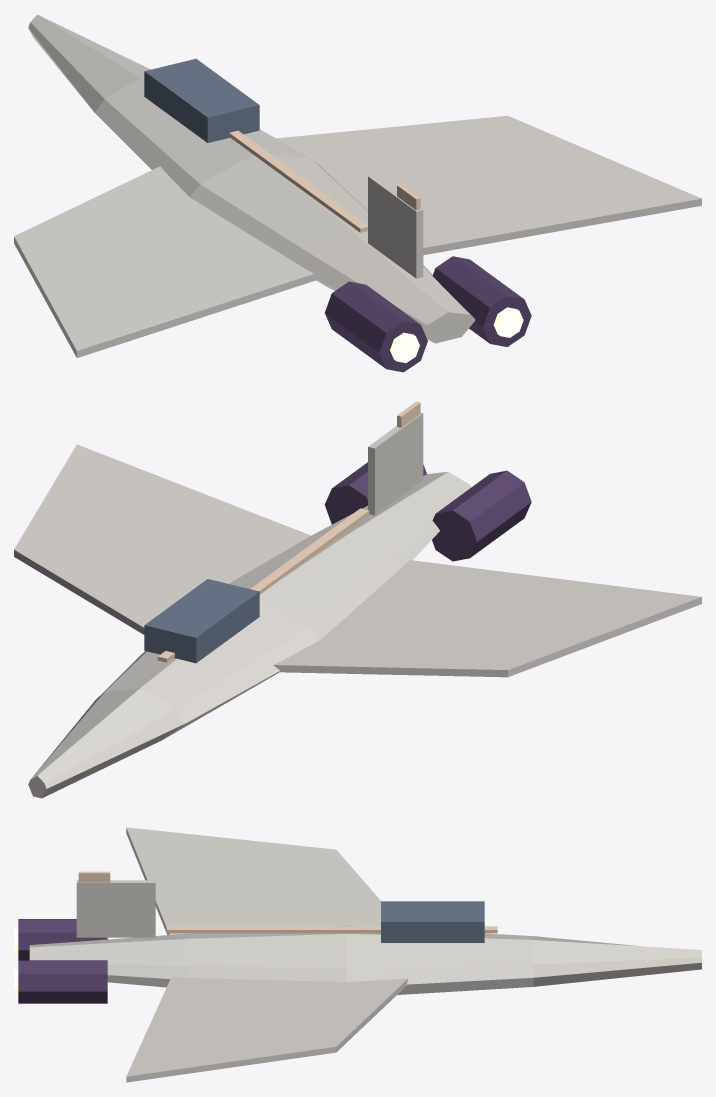
File: ship.glb
3 views of the same model, one above another, from view 1: azimuth 30°, elevation 25°; view 2: azimuth 150°, elevation 25°; view 3: azimuth 270°, elevation 25° (orthographic). The views are drawn at different scales.
Parts seen in each view (by area): view 1: Ship; view 2: Ship; view 3: Ship.
Boxes of the visible parts, bbox=[...] form: Ship: bbox=[14, 14, 701, 372]; Ship: bbox=[14, 401, 701, 798]; Ship: bbox=[14, 827, 701, 1082].
Size of the model in its own units: 4.1 by 0.8601 by 4.78.
